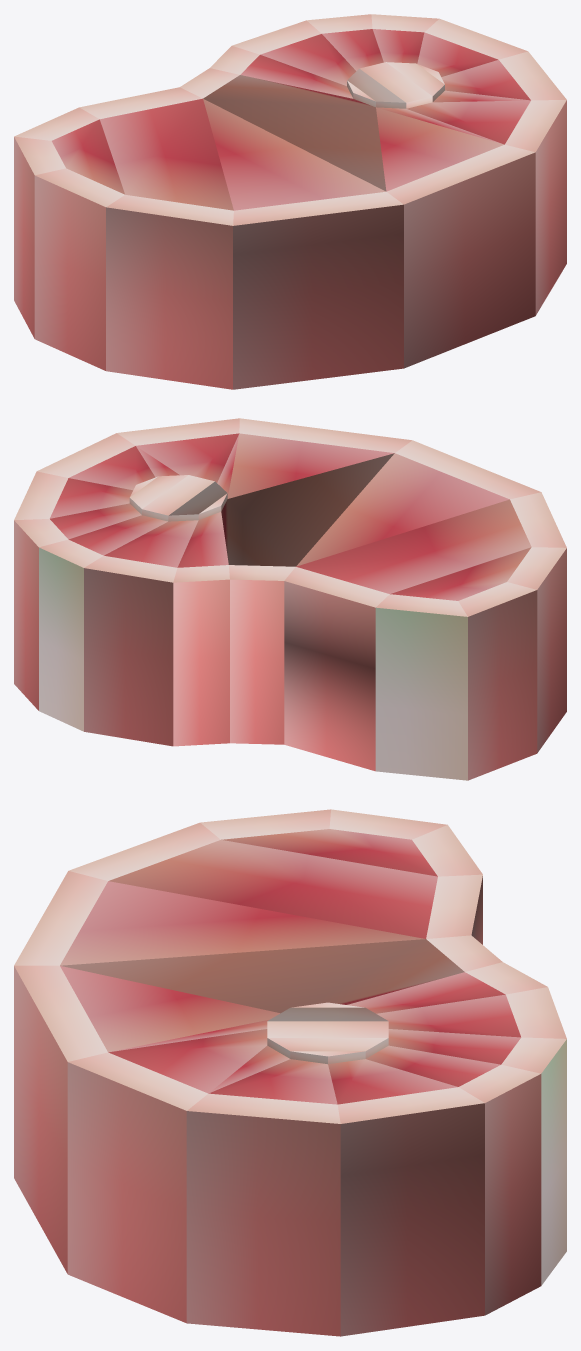
The model's file is steak01.fbx.
3 renders of one model, top to bottom at view 1: azimuth 30°, elevation 25°; view 2: azimuth 150°, elevation 25°; view 3: azimuth 270°, elevation 25°, orthographic. The views are drawn at different scales.
Parts seen in each view (by area): view 1: steak01; view 2: steak01; view 3: steak01.
Part boxes in pixels (<box>): steak01: <box>14,14,566,389</box>; steak01: <box>14,418,566,780</box>; steak01: <box>14,809,566,1336</box>.
Bounding box in the file's own units: 102 × 34.51 × 75.87.
